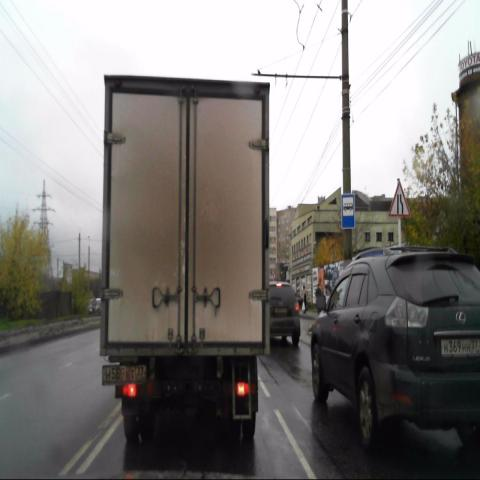1_20_2: (388, 181, 410, 218)
